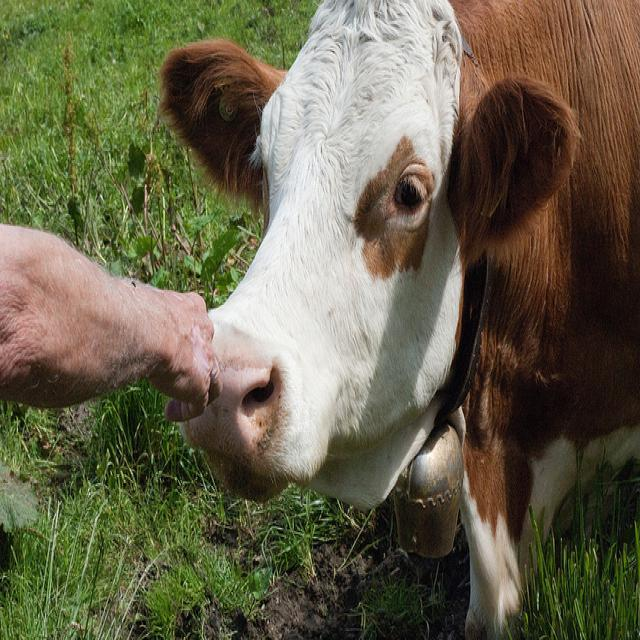cow: (144, 0, 638, 624)
